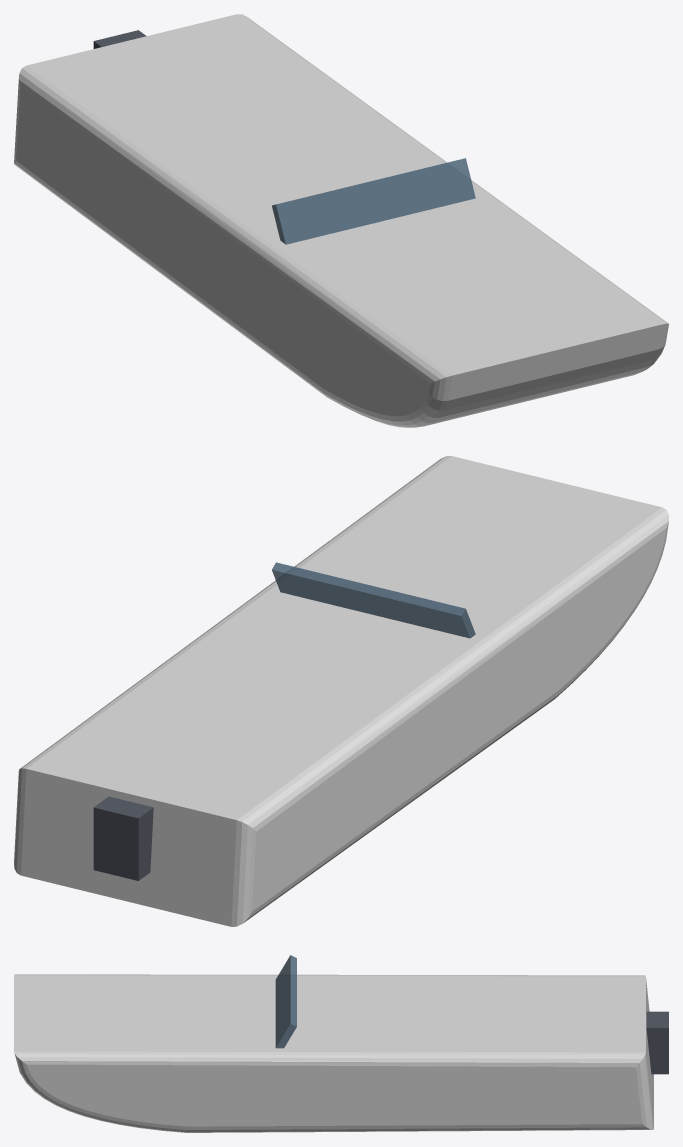
The model's file is veh_lancha.glb.
3 renders of one model, top to bottom at view 1: azimuth 30°, elevation 25°; view 2: azimuth 150°, elevation 25°; view 3: azimuth 270°, elevation 25°, orthographic. The views are drawn at different scales.
Parts seen in each view (by area): view 1: veh_lancha; view 2: veh_lancha; view 3: veh_lancha.
Part boxes in pixels (box(x1,y1,x2,y2)): veh_lancha: box(14, 14, 668, 427); veh_lancha: box(14, 456, 668, 926); veh_lancha: box(14, 955, 668, 1132).
Bounding box in the file's own units: 2.21 × 1.26 × 7.15.
